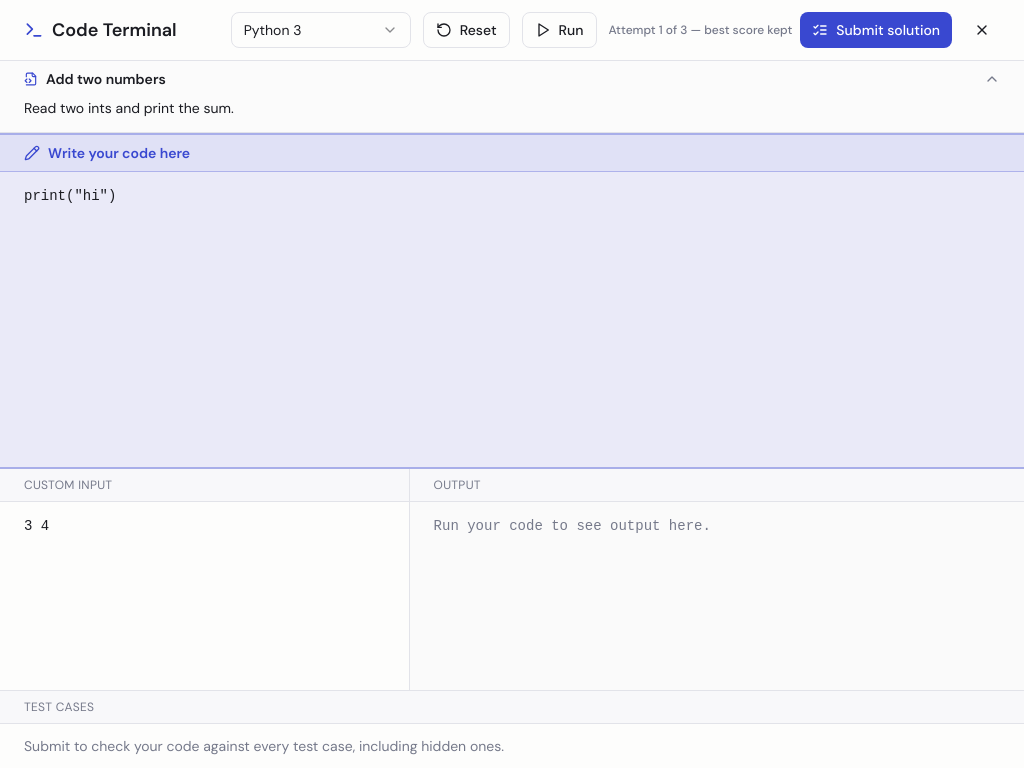
Test: CodingTerminalWidget attempt cap (coding lab weeks) › shows the attempt badge and sends elapsed_ms with Submit
The width and height of the screenshot is (1024, 768).
expect the text "Attempt 1 of 3 — best score kept" is shown: met, box 608,22 -> 792,38
Click the button "Submit solution" at x=876, y=30, box 800,12 -> 952,48
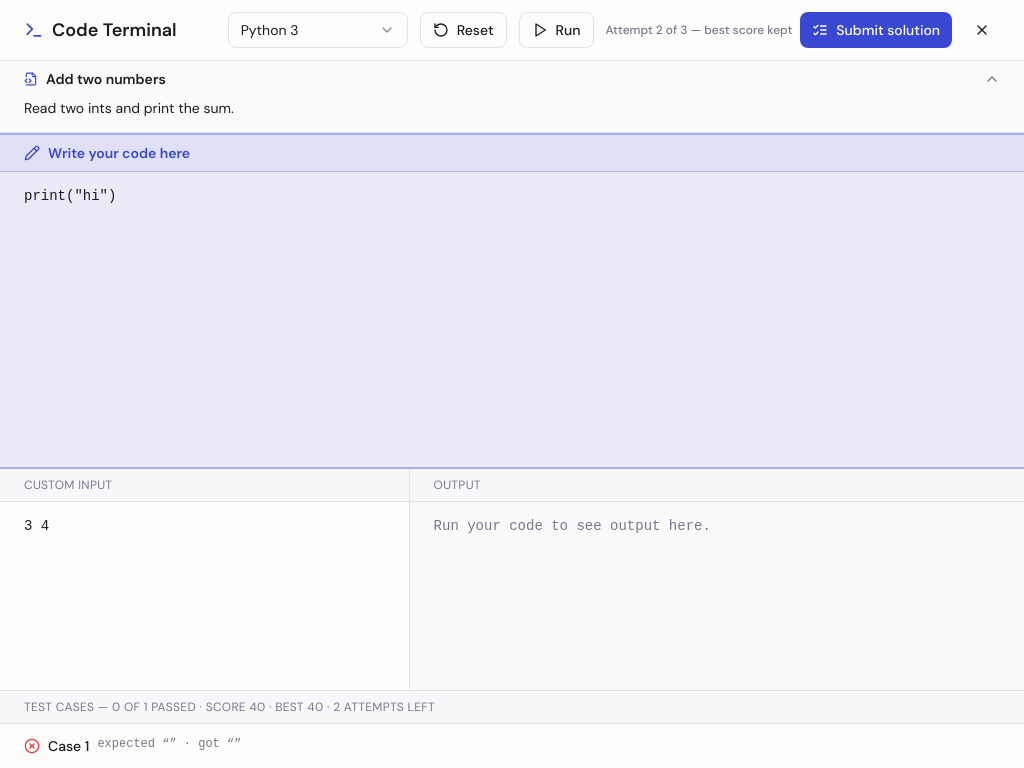
expect the text "Score 40" is shown: met, box 196,699 -> 266,715
expect the text "Best 40" is shown: met, box 266,699 -> 324,715
expect the text "2 attempts left" is shown: met, box 324,699 -> 435,715
